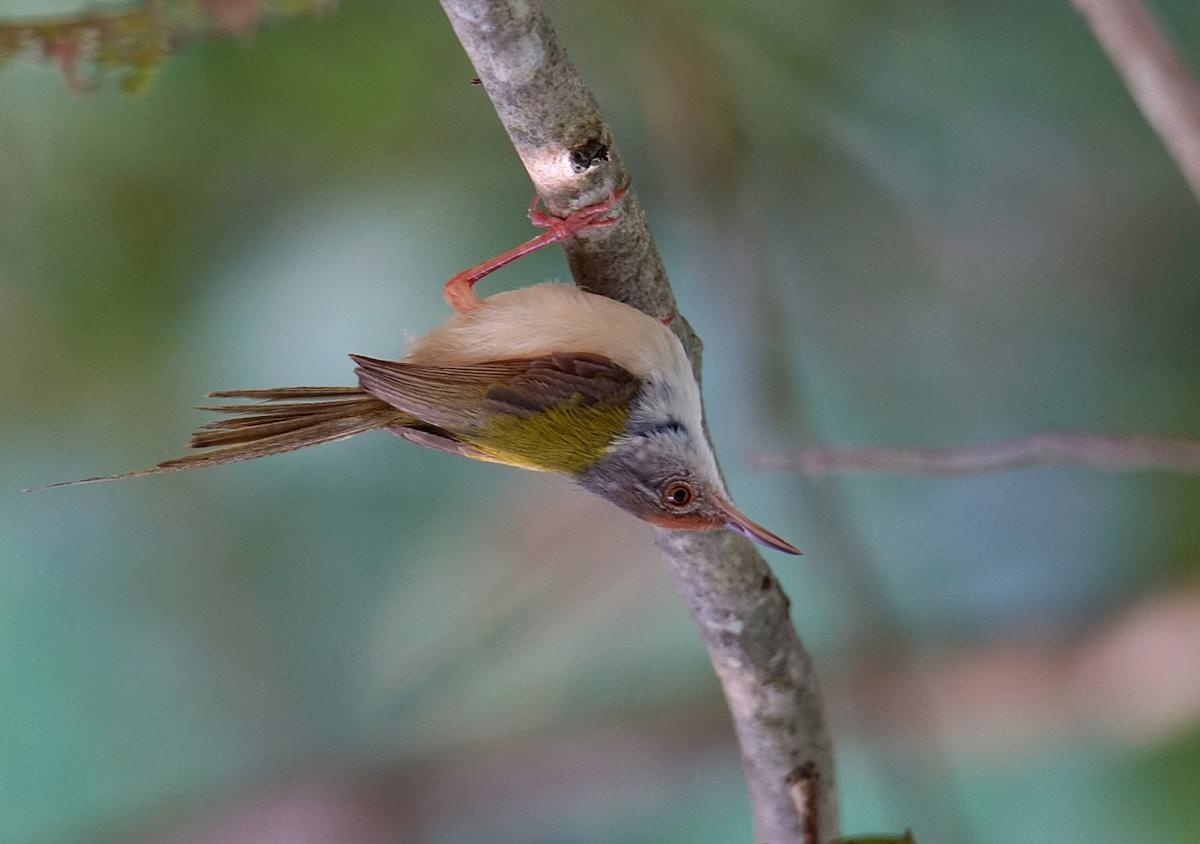tailorbird: (157, 165, 850, 673)
